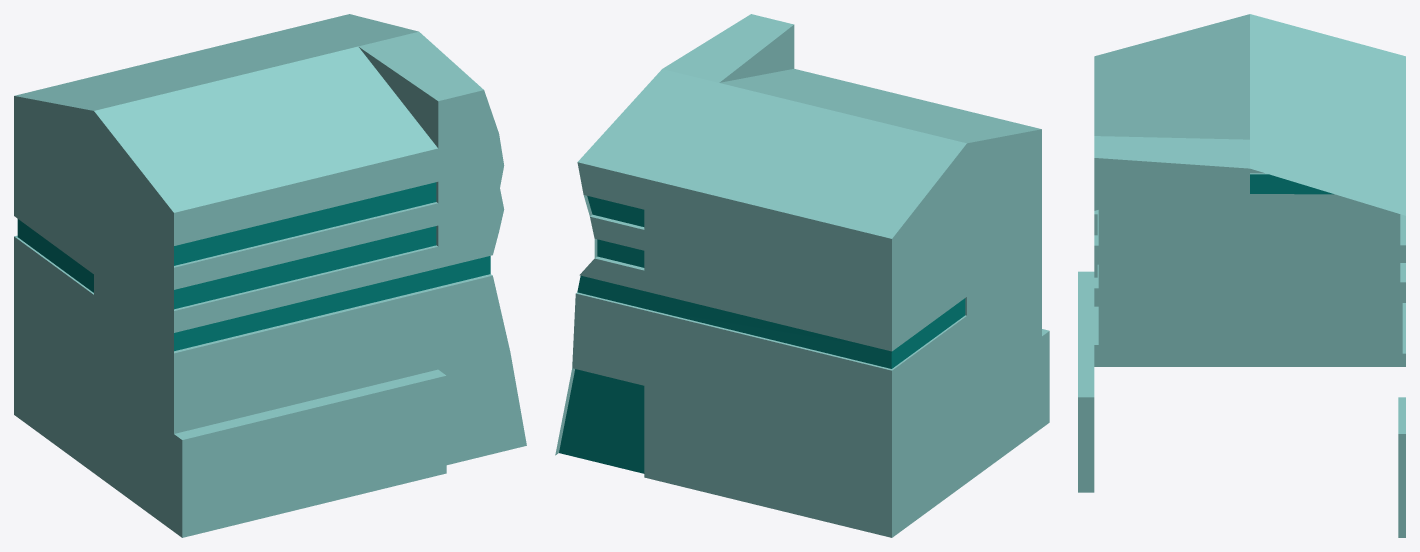
The model's file is ruines5.FBX.
The picture shows the model from 3 angles, left to right: view 1: azimuth 30°, elevation 25°; view 2: azimuth 150°, elevation 25°; view 3: azimuth 270°, elevation 25°; orthographic projection. The views are drawn at different scales.
Visible parts, largest first — view 1: Box002; view 2: Box002; view 3: Box002.
Boxes of the visible parts, x1,y1,x2,y2 form: Box002: (14,14,526,537); Box002: (555,14,1049,537); Box002: (1078,14,1405,537).
Bounding box in the file's own units: 61.28 × 59.67 × 49.71.
